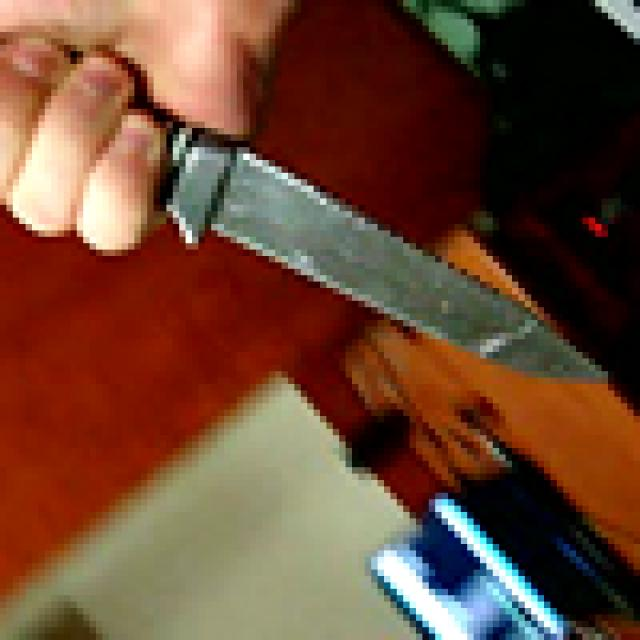weapon: (102, 84, 614, 390)
